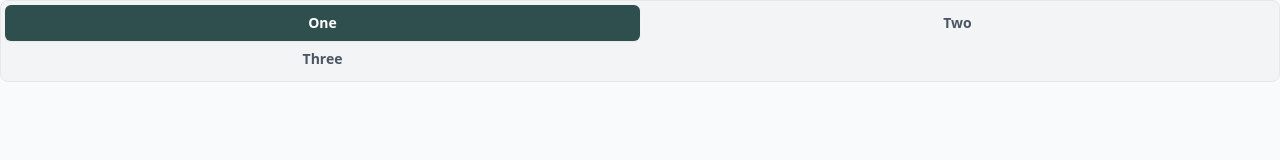
Scenario: Tabs › exposes the selected tab through ARIA state and roving tabindex
The image size is (1280, 160).
What coordinates should you click on to do the following:
click the tab "Two"
I would click on:
 (958, 23)
Its box is [640, 5, 1275, 41].
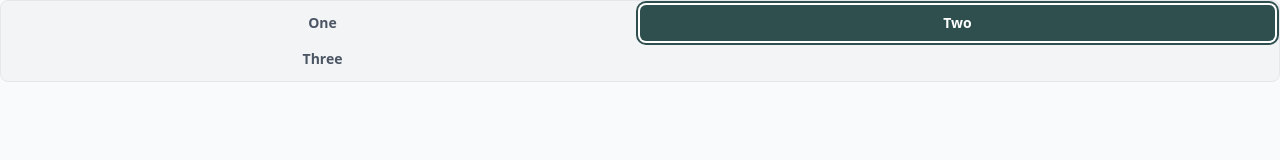
Now the tab "Two" is selected, box [640, 5, 1275, 41]
Now the tab "One" is not selected, box [5, 5, 640, 41]
